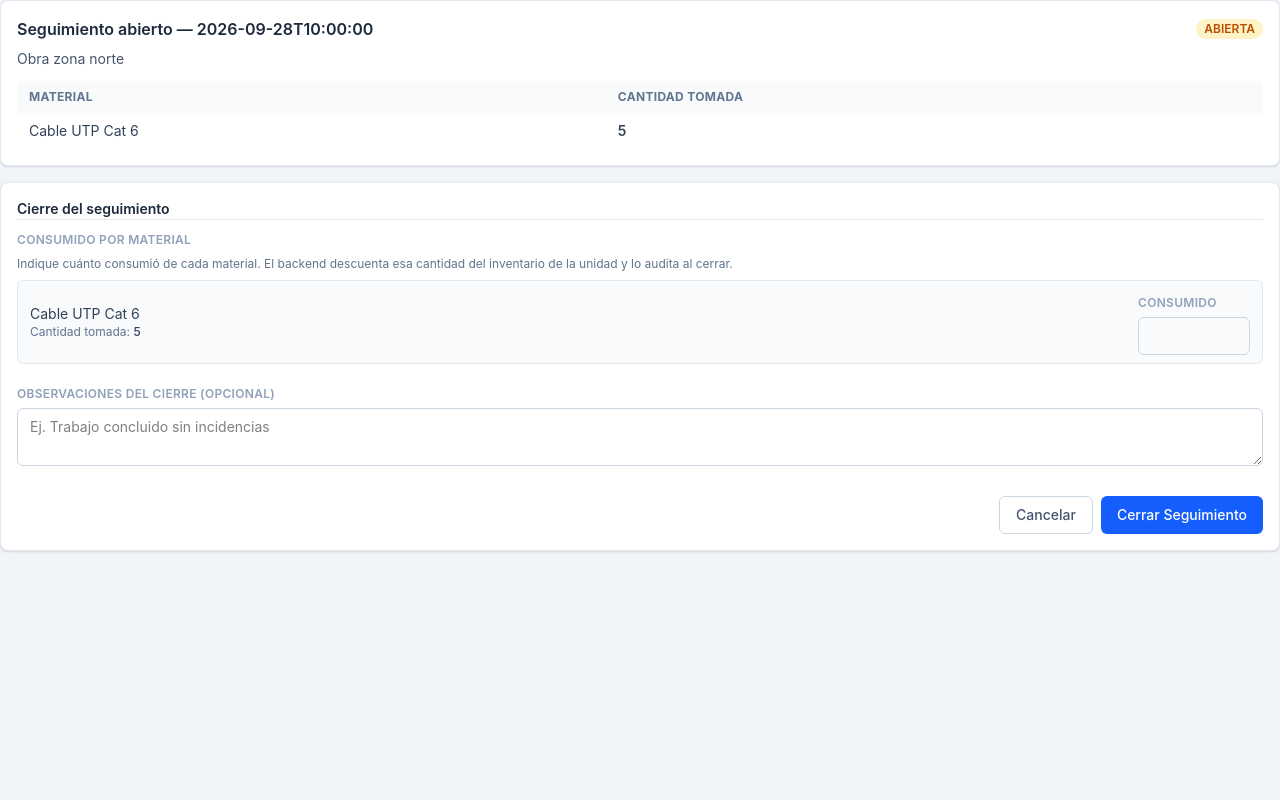
Test: SeguimientoPanel — Acta de Consumo tras el cierre (REQ-P2-CON-005) › sin navegación disponible no ofrece una acción muerta
Type "2" into the number field labelled "Consumido".
click(1194, 336); type("2")  # box top-left (1138, 317), bottom-right (1250, 355)
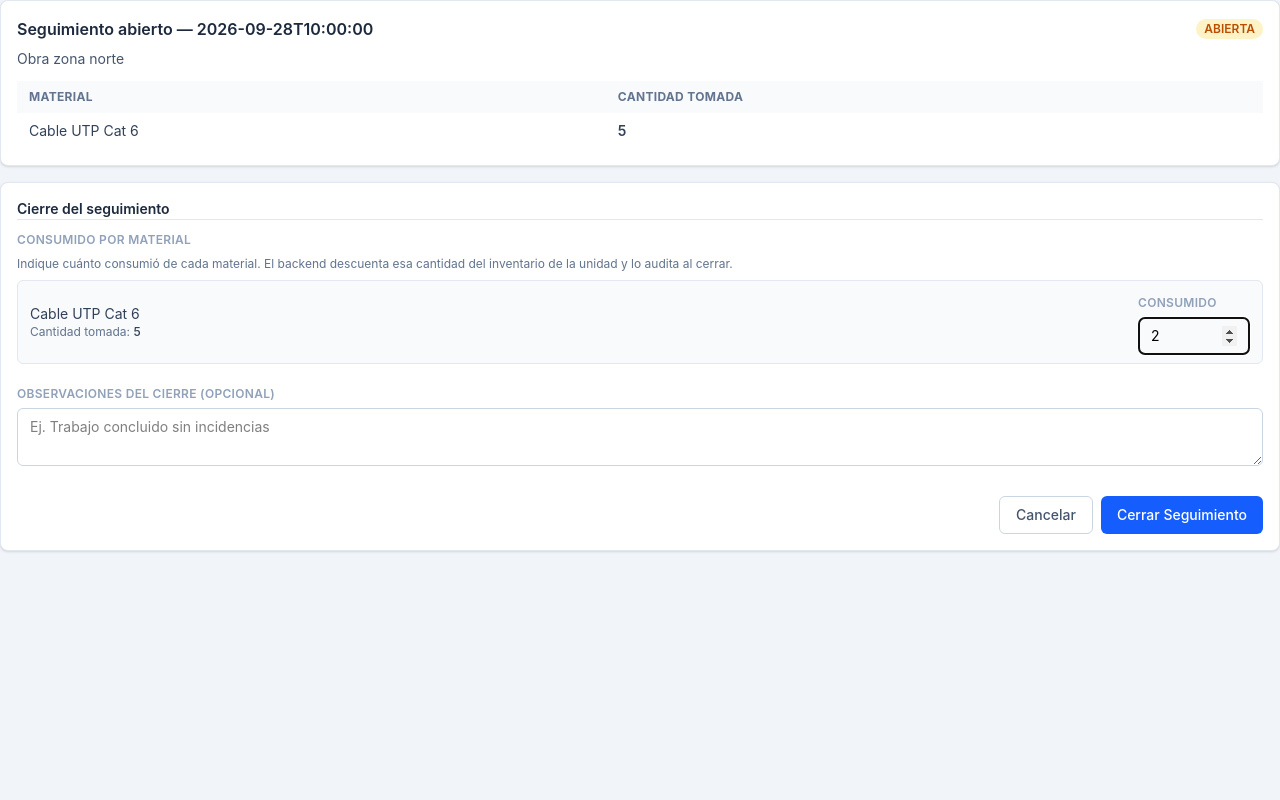
Click the button "Cerrar Seguimiento".
click(1182, 515)  # box top-left (1101, 496), bottom-right (1263, 534)
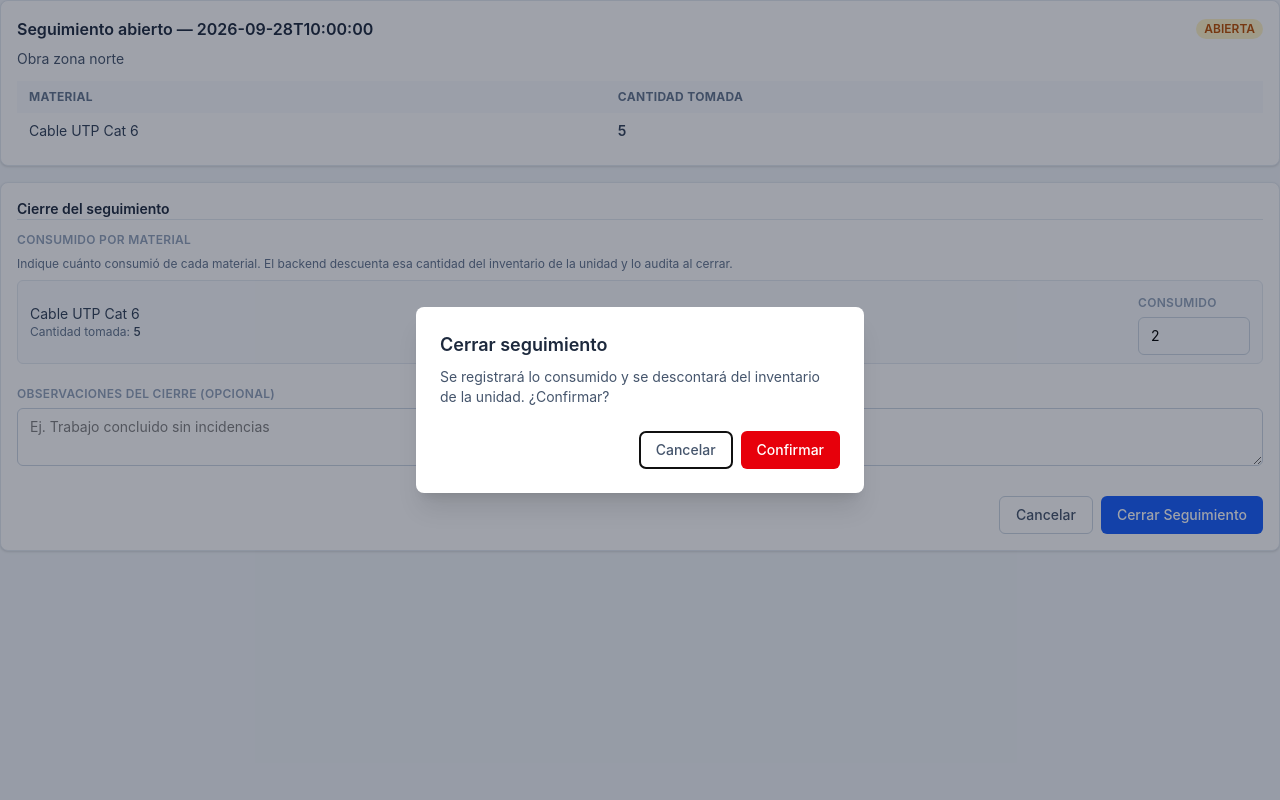
Click the button "Confirmar".
click(790, 450)  # box top-left (741, 431), bottom-right (840, 469)
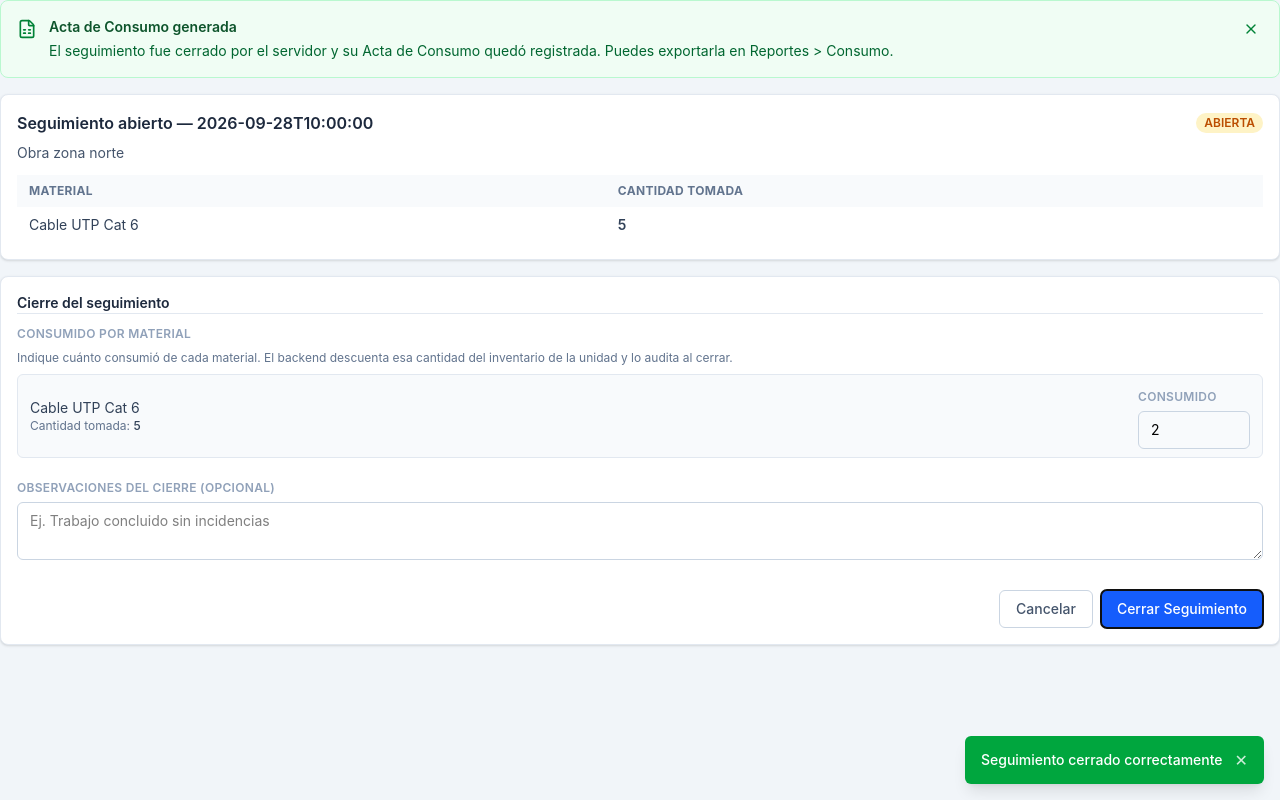
Expected: the text "Acta de Consumo generada" is shown, top-left (49, 18), bottom-right (237, 35)
